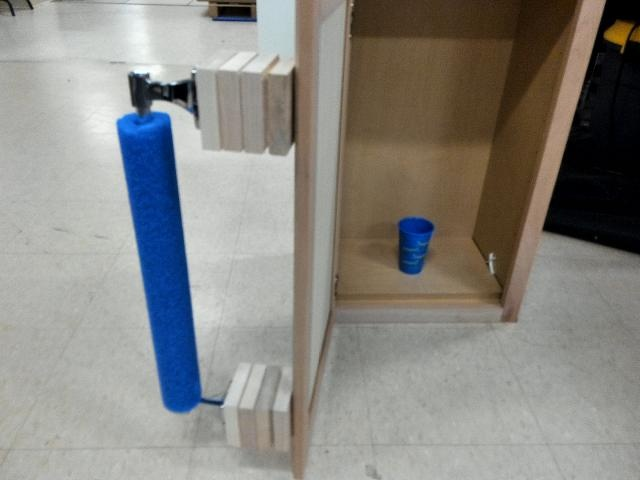noodle_handle: (112, 105, 210, 414)
water_cup: (392, 211, 430, 280)
